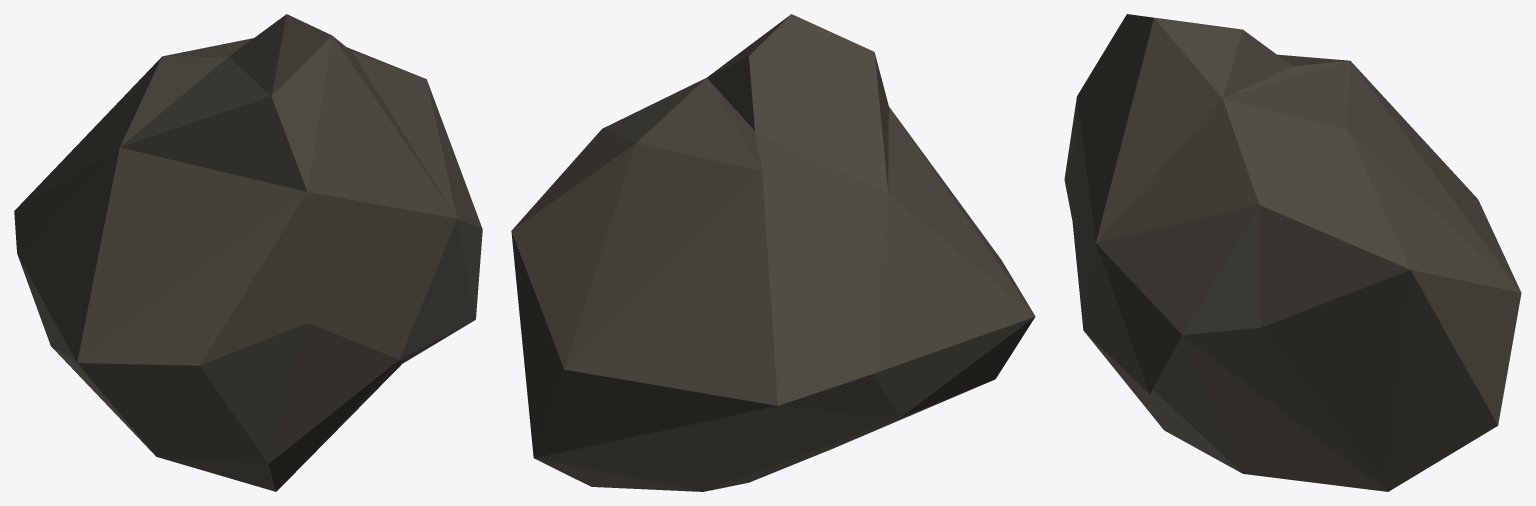
Rendered from LargeBoulder1.FBX.
3 renders of one model, left to right at view 1: azimuth 30°, elevation 25°; view 2: azimuth 150°, elevation 25°; view 3: azimuth 270°, elevation 25°, orthographic. The views are drawn at different scales.
Visible parts, largest first — view 1: LargeBoulder001; view 2: LargeBoulder001; view 3: LargeBoulder001.
Boxes of the visible parts, x1=… form: LargeBoulder001: x1=14, y1=14, x2=482, y2=491; LargeBoulder001: x1=511, y1=14, x2=1035, y2=491; LargeBoulder001: x1=1064, y1=14, x2=1521, y2=491.
Bounding box in the file's own units: 61.17 × 64.19 × 58.32.
